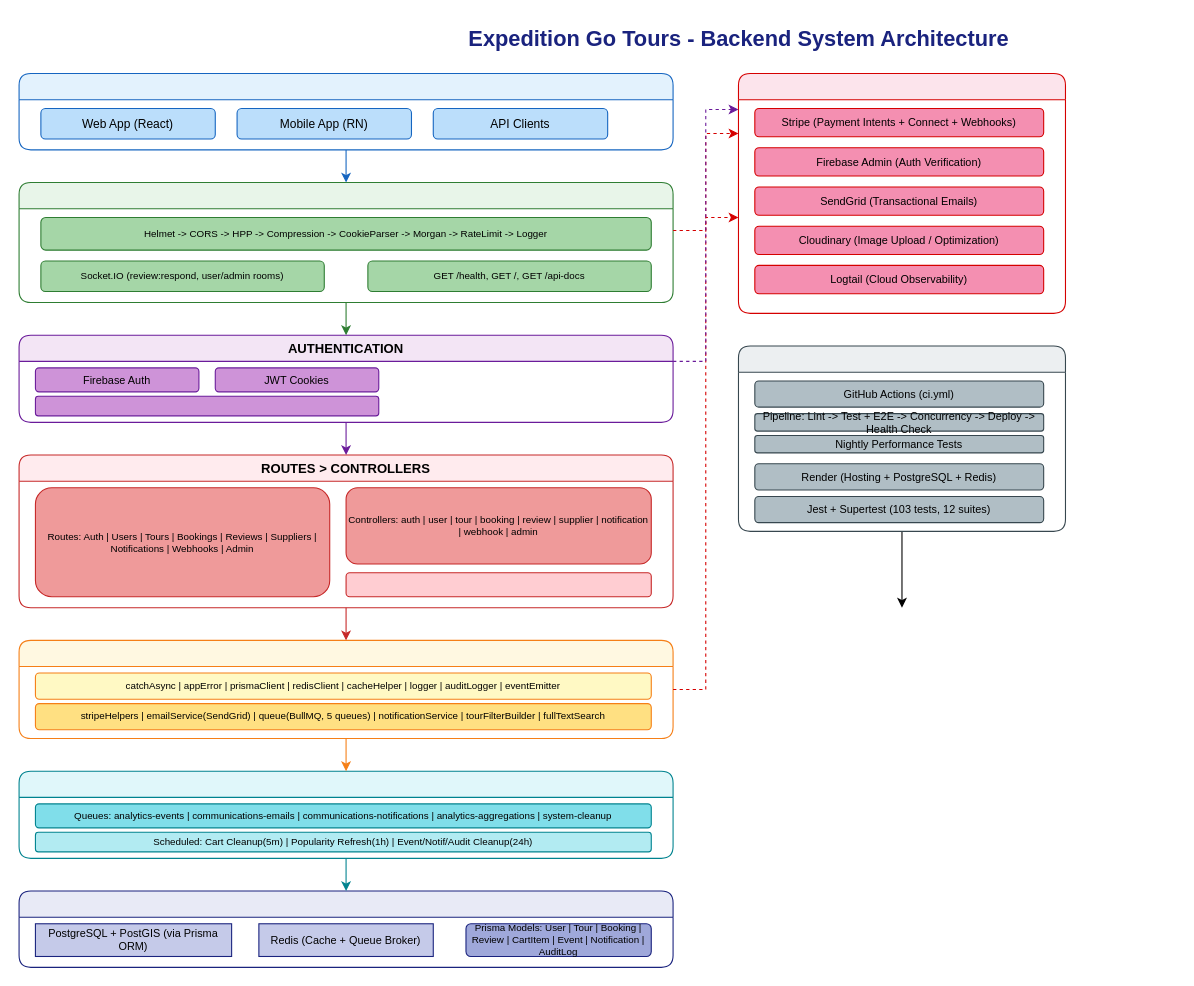
Some shapes in this 1194 by 986 pixel diagram are drawn without their labels. The box of each missing label's shape, as (x1, y1, x2, y2) in pixels:
BACKGROUND WORKERS: (18, 770, 673, 858)
CLIENT LAYER: (18, 72, 673, 150)
DATA STORES: (18, 890, 673, 967)
DEVOPS & CI/CD: (737, 345, 1065, 531)
EXPRESS GATEWAY: (18, 181, 673, 302)
EXTERNAL SERVICES: (737, 72, 1065, 313)
Global Error Handler (AppError | Prisma | JSON | Multer | CastError | JWT): (345, 572, 651, 597)
restrictTo(admin, supplier): (34, 395, 379, 416)
SERVICE / UTILITY LAYER: (18, 639, 673, 738)
